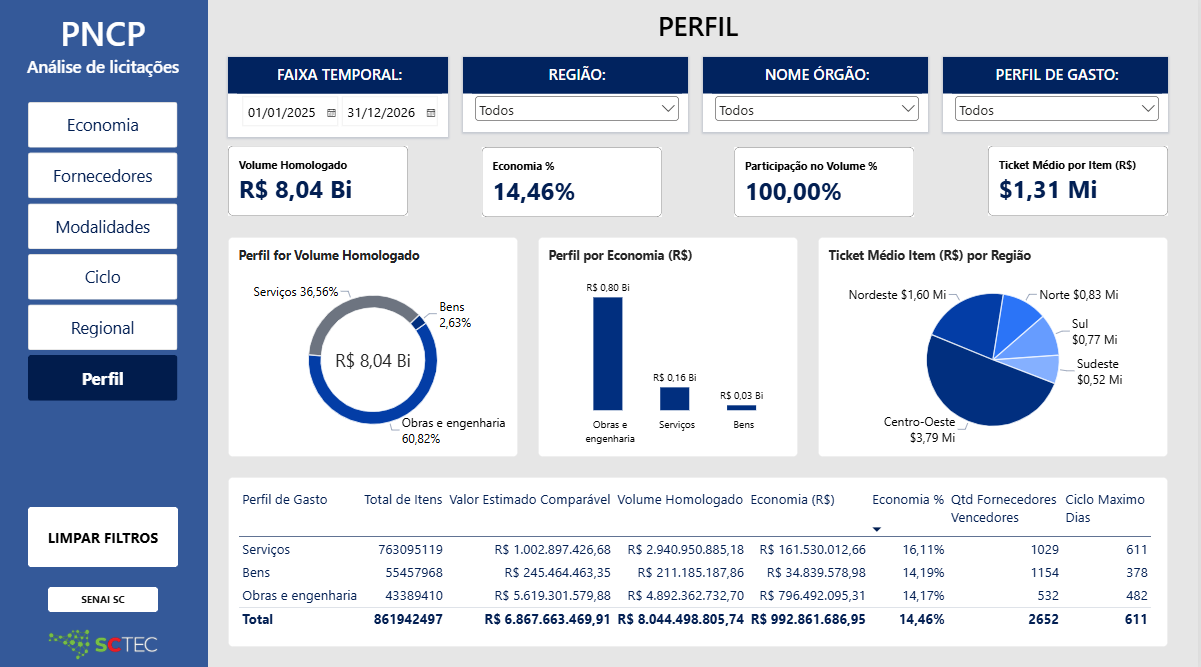

What the dashboard file says about the page in this screenshot:
{"tool":"powerbi","page":{"name":"Perfil","canvas":[1920,1080],"ordinal":5},"visuals":[{"type":"textbox","box":[0,-8,336,1088],"z":0},{"type":"actionButton","box":[48,816,240,96],"z":1000},{"type":"actionButton","box":[80,944,176,40],"z":2000},{"type":"image","box":[80,1008,176,56],"z":3000},{"type":"textbox","box":[368,16,1504,64],"z":4000},{"type":"slicer","title":"REGIÃO:","fields":{"Values":["dim_localidade.regiao"]},"box":[744,96,360,120],"z":5000},{"type":"slicer","title":"NOME ÓRGÃO:","fields":{"Values":["dim_orgao.nome_orgao"]},"box":[1128,96,360,120],"z":6000},{"type":"cardVisual","fields":{"Data":["_medidas.Volume Homologado"]},"box":[368,237,288,112],"z":7000},{"type":"cardVisual","fields":{"Data":["_medidas.Ticket Médio por Item (R$)"]},"box":[1584,237,288,112],"z":8000},{"type":"clusteredColumnChart","title":"Perfil por Economia (R$)","fields":{"Category":["fato_item_contratado.perfil_gasto"],"Y":["_medidas.Economia (R$)"]},"box":[864,384,416,352],"z":9000},{"type":"donutChart","title":"Perfil for Volume Homologado","fields":{"Series":["fato_item_contratado.perfil_gasto"],"Y":["_medidas.Volume Homologado"]},"box":[368,384,464,352],"z":10000},{"type":"cardVisual","fields":{"Data":["_medidas.Participação no Volume %"]},"box":[1178.7,240,288,112],"z":11000},{"type":"slicer","title":"PERFIL DE GASTO:","fields":{"Values":["fato_item_contratado.perfil_gasto"]},"box":[1512,96,360,120],"z":12000},{"type":"pageNavigator","box":[48,168,240,480],"z":13000},{"type":"cardVisual","fields":{"Data":["_medidas.Economia %"]},"box":[773.3,240,288,112],"z":14000},{"type":"slicer","title":"FAIXA TEMPORAL:","fields":{"Values":["dCalendario.Date"]},"box":[368,96,352,128],"z":15000},{"type":"pieChart","title":"Ticket Médio Item (R$) por Região","fields":{"Category":["dim_localidade.regiao"],"Y":["_medidas.Ticket Médio por Item (R$)"]},"box":[1312,384,560,352],"z":17000},{"type":"tableEx","fields":{"Values":["fato_item_contratado.perfil_gasto","_medidas.Total de Itens","_medidas.Valor Estimado Comparável","_medidas.Volume Homologado","_medidas.Economia (R$)","_medidas.Economia %","_medidas.Qtd Fornecedores Vencedores","_medidas.Ciclo Maximo Dias"]},"box":[368,768,1504,272],"z":19000}]}

Visuals, with their boxes in screenshot pixels (x1, y1, x2, y2), scaled from the page's 1920x1080 canvas onto the 1201x667 screenshot:
textbox: {"left": 0, "top": 0, "right": 210, "bottom": 666}
actionButton: {"left": 30, "top": 504, "right": 180, "bottom": 563}
actionButton: {"left": 50, "top": 583, "right": 160, "bottom": 608}
image: {"left": 50, "top": 623, "right": 160, "bottom": 657}
textbox: {"left": 230, "top": 10, "right": 1171, "bottom": 49}
"REGIÃO:" slicer: {"left": 465, "top": 59, "right": 691, "bottom": 133}
"NOME ÓRGÃO:" slicer: {"left": 706, "top": 59, "right": 931, "bottom": 133}
cardVisual - _medidas.Volume Homologado: {"left": 230, "top": 146, "right": 410, "bottom": 216}
cardVisual - _medidas.Ticket Médio por Item (R$): {"left": 991, "top": 146, "right": 1171, "bottom": 216}
"Perfil por Economia (R$)" clusteredColumnChart: {"left": 540, "top": 237, "right": 801, "bottom": 455}
"Perfil for Volume Homologado" donutChart: {"left": 230, "top": 237, "right": 520, "bottom": 455}
cardVisual - _medidas.Participação no Volume %: {"left": 737, "top": 148, "right": 917, "bottom": 217}
"PERFIL DE GASTO:" slicer: {"left": 946, "top": 59, "right": 1171, "bottom": 133}
pageNavigator: {"left": 30, "top": 104, "right": 180, "bottom": 400}
cardVisual - _medidas.Economia %: {"left": 484, "top": 148, "right": 664, "bottom": 217}
"FAIXA TEMPORAL:" slicer: {"left": 230, "top": 59, "right": 450, "bottom": 138}
"Ticket Médio Item (R$) por Região" pieChart: {"left": 821, "top": 237, "right": 1171, "bottom": 455}
tableEx - fato_item_contratado.perfil_gasto x _medidas.Total de Itens: {"left": 230, "top": 474, "right": 1171, "bottom": 642}
